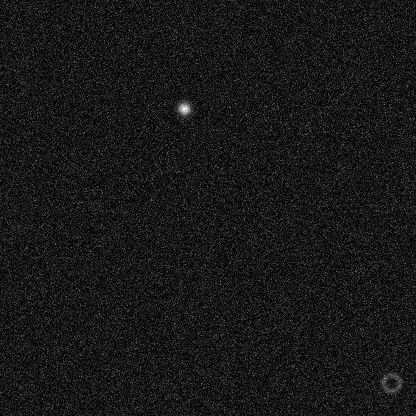Ring: (379, 370, 403, 394)
Spot: (176, 100, 192, 116)
